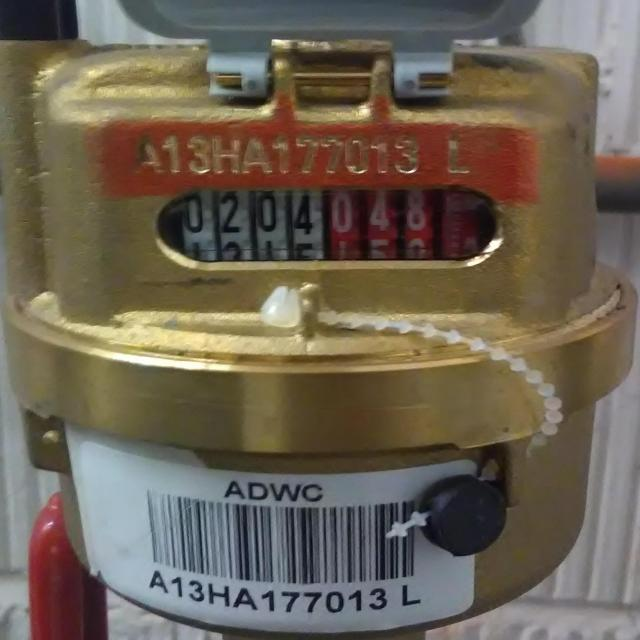gaz_meter: (30, 42, 598, 327)
indication: (164, 184, 467, 261)
